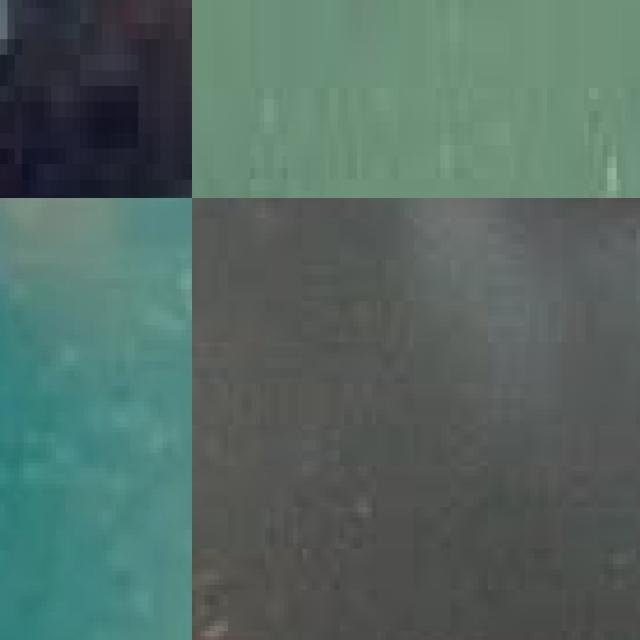fish: (192, 198, 640, 640), (0, 0, 192, 198)
